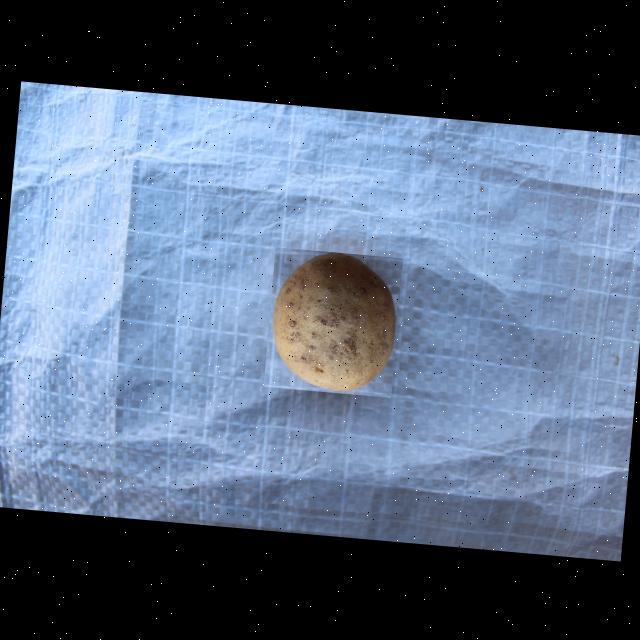Diseased-fungal potato: (262, 246, 402, 396)
